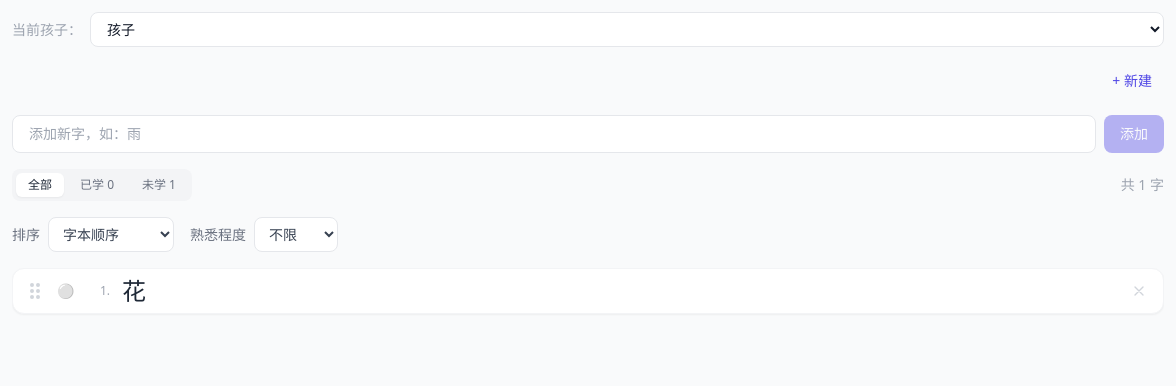
Test: WordBookPage › 打开生字详情时滚动回页面顶部
What coordinates should you click on to do the following:
click the text "花"
I would click on:
 (134, 291)
Its box is [122, 279, 146, 303].
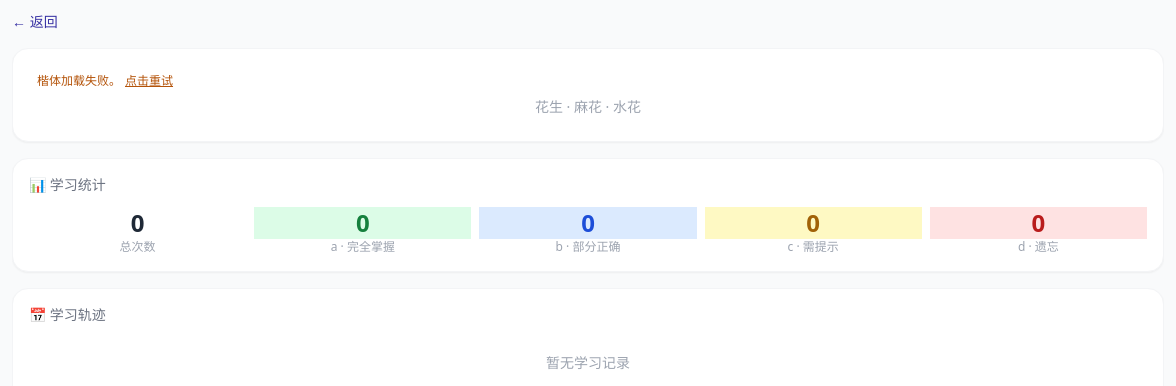
expect the heading "📊 学习统计" is shown: met, box [29, 175, 106, 194]
